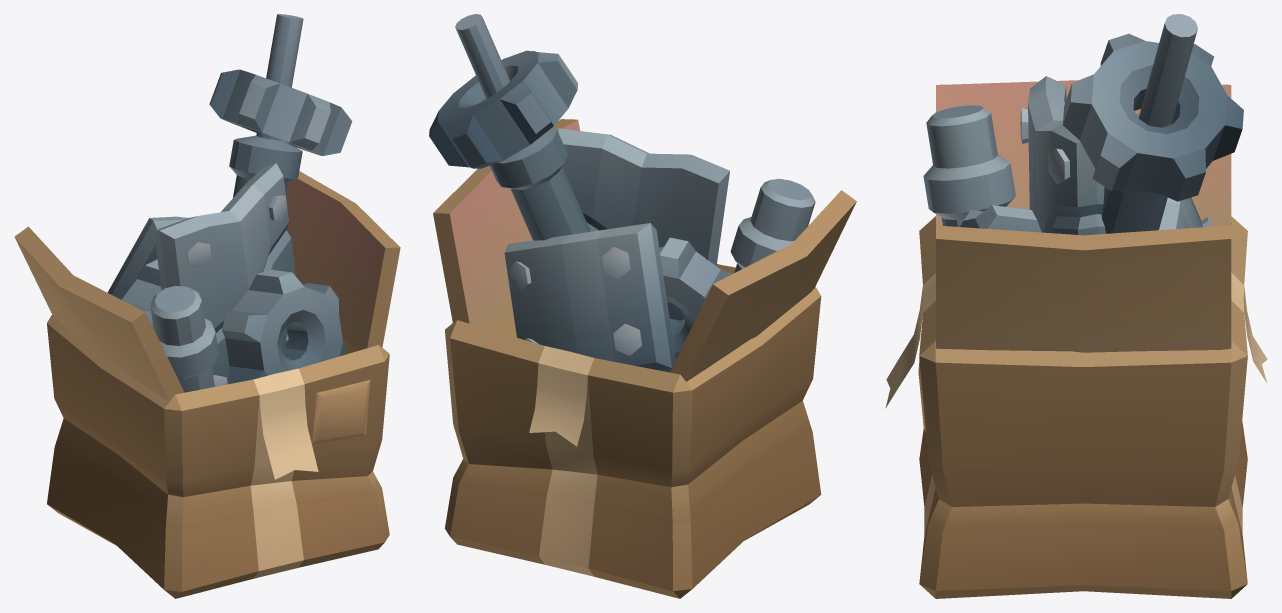
The model's file is Parts_Pile_Medium.glb.
3 renders of one model, left to right at view 1: azimuth 30°, elevation 25°; view 2: azimuth 150°, elevation 25°; view 3: azimuth 270°, elevation 25°, orthographic. The views are drawn at different scales.
Visible parts, largest first — view 1: Parts_Pile_Medium; view 2: Parts_Pile_Medium; view 3: Parts_Pile_Medium.
Boxes of the visible parts, bbox=[...] form: Parts_Pile_Medium: bbox=[14, 14, 400, 598]; Parts_Pile_Medium: bbox=[429, 14, 856, 598]; Parts_Pile_Medium: bbox=[885, 14, 1267, 598].
Size of the model in its own units: 1.02 by 1.47 by 0.8727.
Materials: 1 (1 with a texture image).
